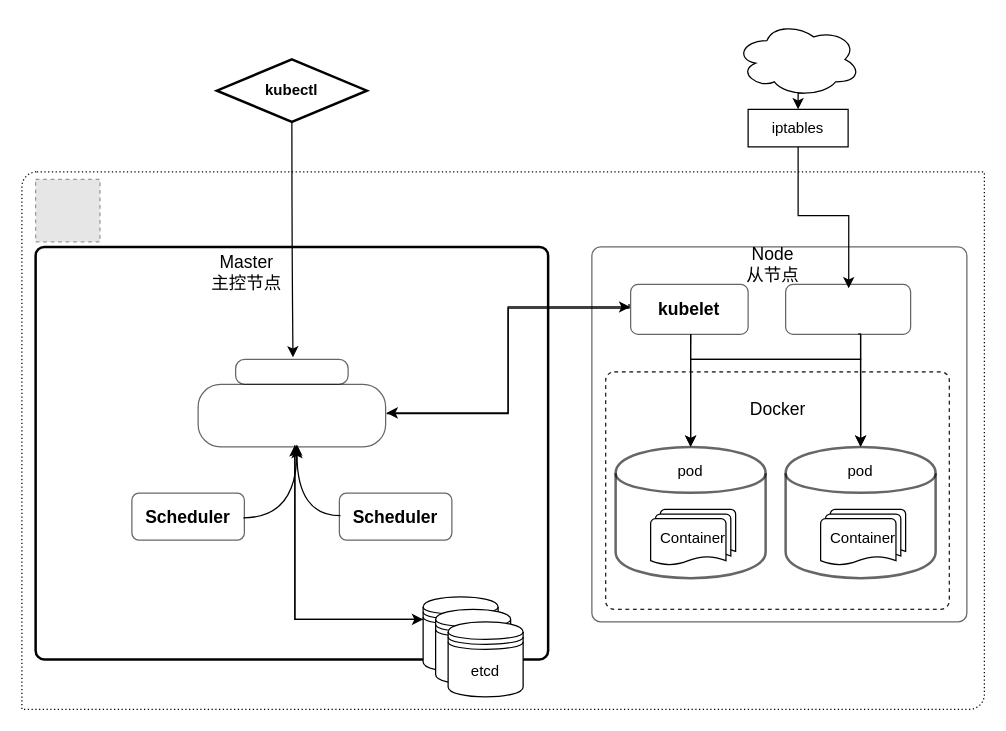
The diagram is 1006 pixels wide and 731 high, and some of its shapes have lost their labels. Grey dashed boxes stand in for pictures. The shapes that lost their labels are listed below. From the top down, each one's centre as x and y in pixels, then its label:
the point at 797,59: Internet
the point at 847,308: kube-proxy
the point at 291,371: Auth
the point at 291,415: APi Server
